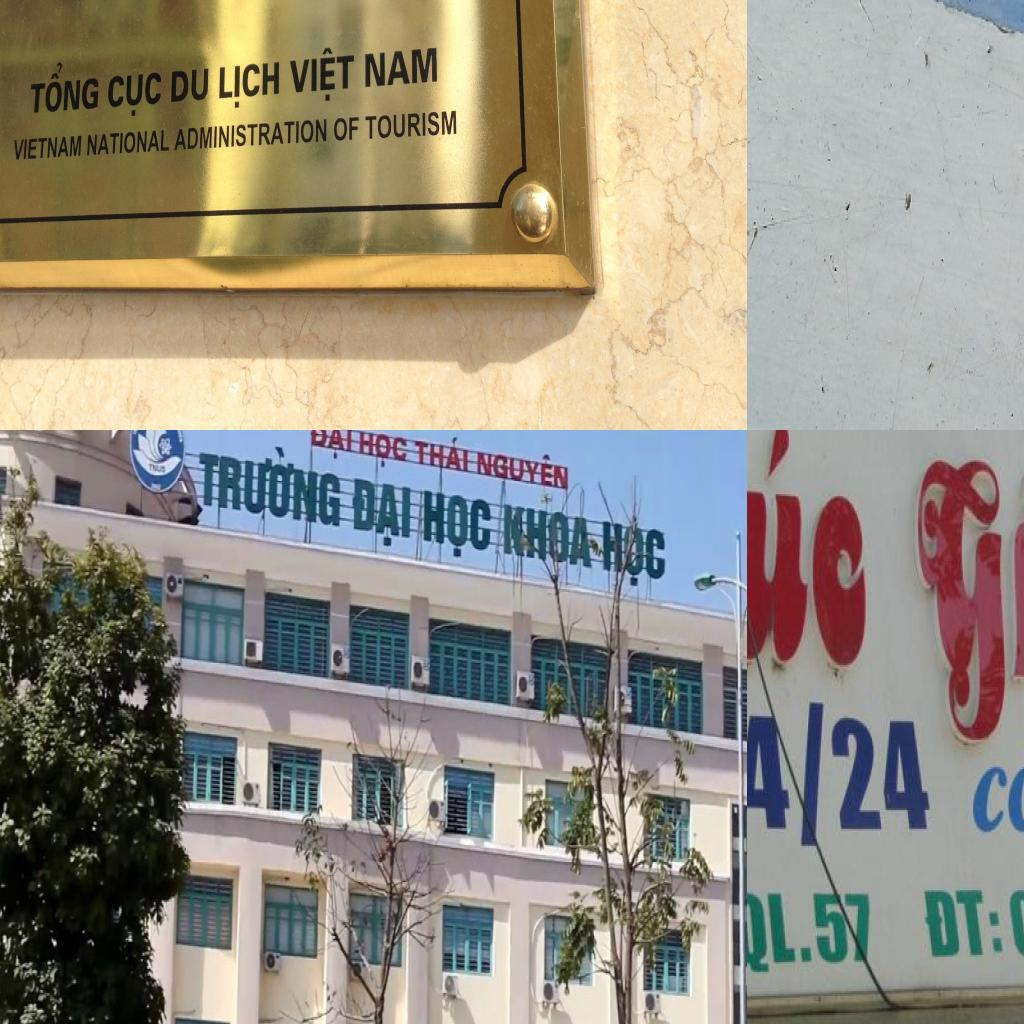text: (916, 448, 1024, 757), (747, 430, 870, 678), (747, 697, 933, 850), (197, 435, 344, 531), (747, 890, 873, 982), (502, 496, 596, 574), (920, 884, 1008, 964), (173, 112, 330, 150), (421, 484, 493, 566), (476, 438, 572, 497), (349, 470, 413, 552), (600, 514, 667, 592), (969, 743, 1024, 838), (28, 55, 100, 116), (286, 43, 356, 105), (362, 42, 440, 92), (216, 58, 282, 110), (106, 65, 163, 120), (414, 430, 471, 478), (86, 126, 174, 157), (358, 430, 411, 475), (12, 132, 84, 163), (168, 63, 211, 108), (310, 430, 355, 465), (330, 114, 360, 146), (146, 461, 168, 475), (131, 430, 142, 436)
